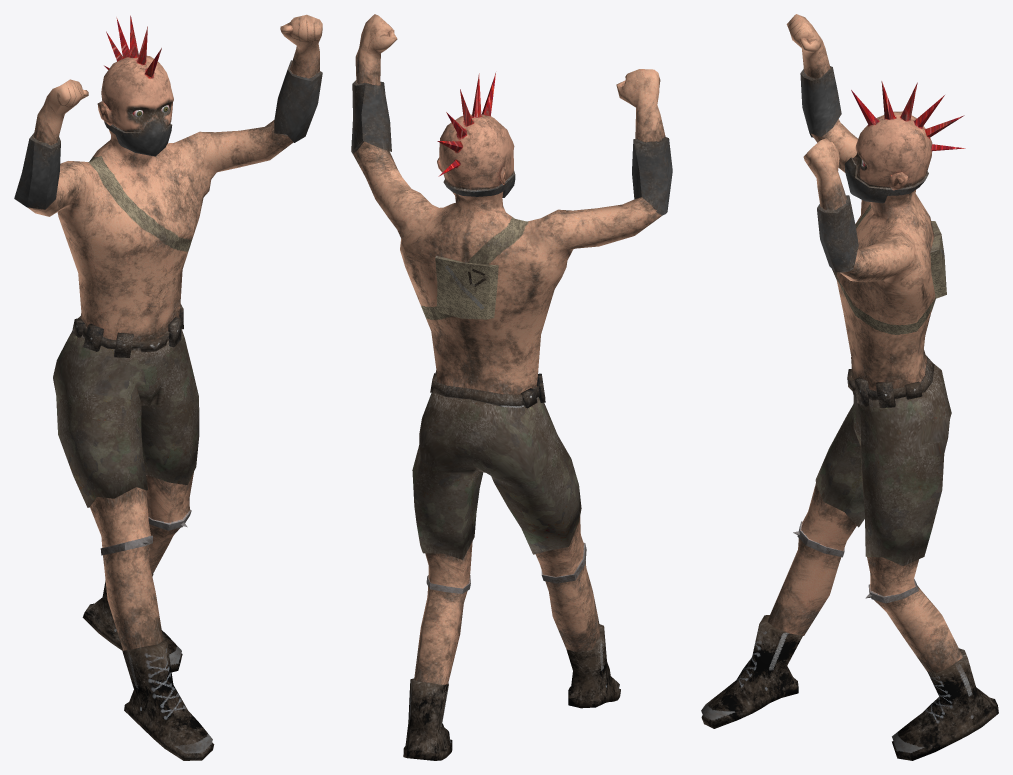
File: Anim_ganar_1_npc2.0020.obj
3 renders of one model, left to right at view 1: azimuth 30°, elevation 25°; view 2: azimuth 150°, elevation 25°; view 3: azimuth 270°, elevation 25°, orthographic. The views are drawn at different scales.
Visible parts, largest first — view 1: polySurface1; view 2: polySurface1; view 3: polySurface1.
Boxes of the visible parts, left/top/right/bottom form: polySurface1: left=14, top=14, right=322, bottom=760; polySurface1: left=351, top=14, right=672, bottom=760; polySurface1: left=701, top=14, right=998, bottom=760.
Bounding box in the file's own units: 4.92 × 10.28 × 4.17.
